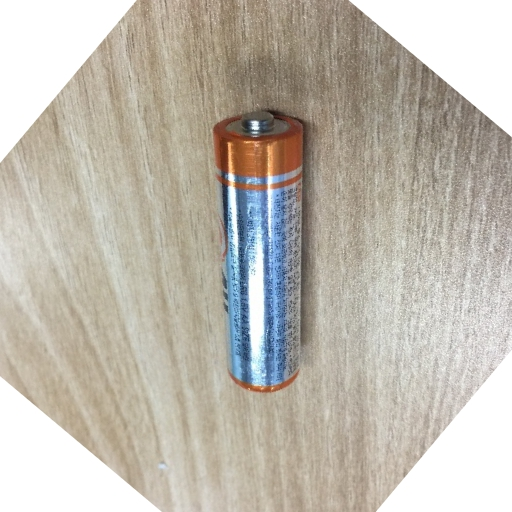Battery_0: (205, 101, 326, 400)
